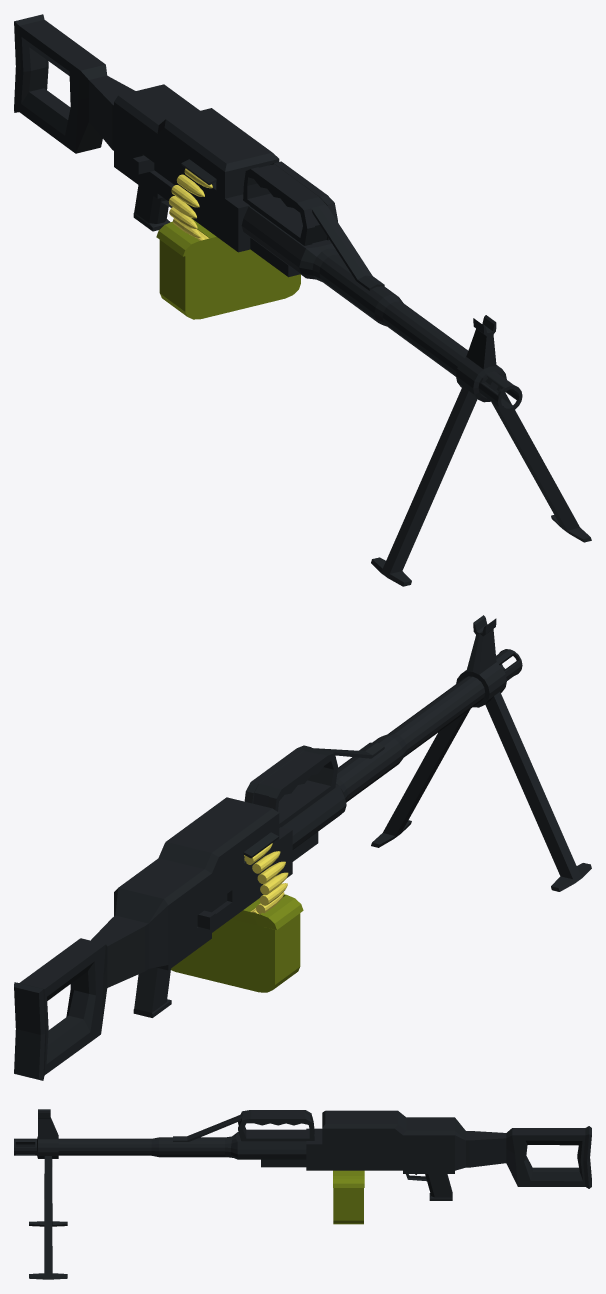
Rendered from machineGunAnim.fbx.
The picture shows the model from 3 angles, top to bottom: view 1: azimuth 30°, elevation 25°; view 2: azimuth 150°, elevation 25°; view 3: azimuth 270°, elevation 25°; orthographic projection. The views are drawn at different scales.
Visible parts, largest first — view 1: Куб.003, Куб.004, Цилиндр.003, Куб.005; view 2: Куб.003, Куб.004, Цилиндр.003, Куб.005; view 3: Куб.003, Куб.004, Куб.005.
Boxes of the visible parts, left/top/right/bottom form: Куб.003: left=14, top=14, right=591, bottom=586; Куб.004: left=159, top=240, right=300, bottom=319; Цилиндр.003: left=168, top=168, right=212, bottom=240; Куб.005: left=156, top=219, right=228, bottom=256; Куб.003: left=14, top=615, right=591, bottom=1080; Куб.004: left=171, top=913, right=300, bottom=992; Цилиндр.003: left=244, top=843, right=288, bottom=914; Куб.005: left=231, top=894, right=303, bottom=929; Куб.003: left=14, top=1109, right=591, bottom=1279; Куб.004: left=333, top=1188, right=363, bottom=1224; Куб.005: left=333, top=1170, right=364, bottom=1187.
Bounding box in the file's own units: 589 × 679 × 2542.
